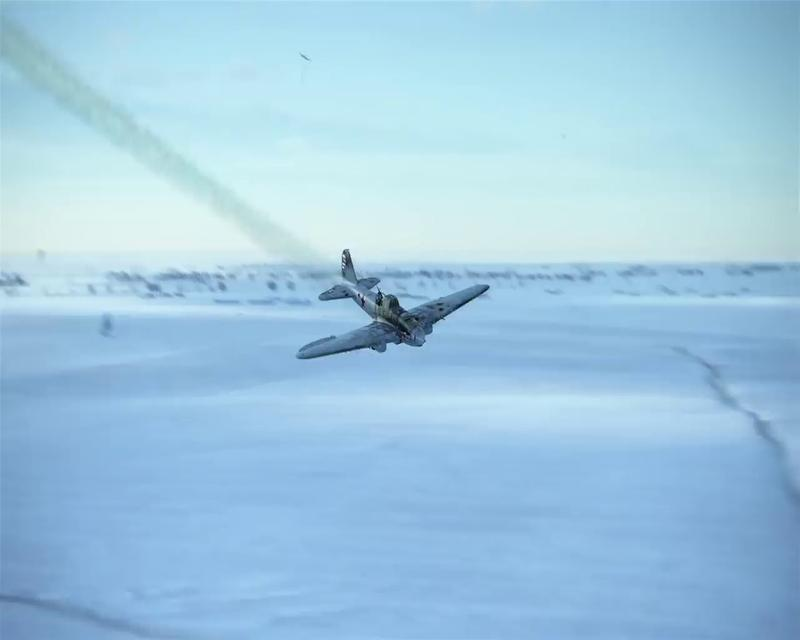UAV: (294, 247, 490, 360)
